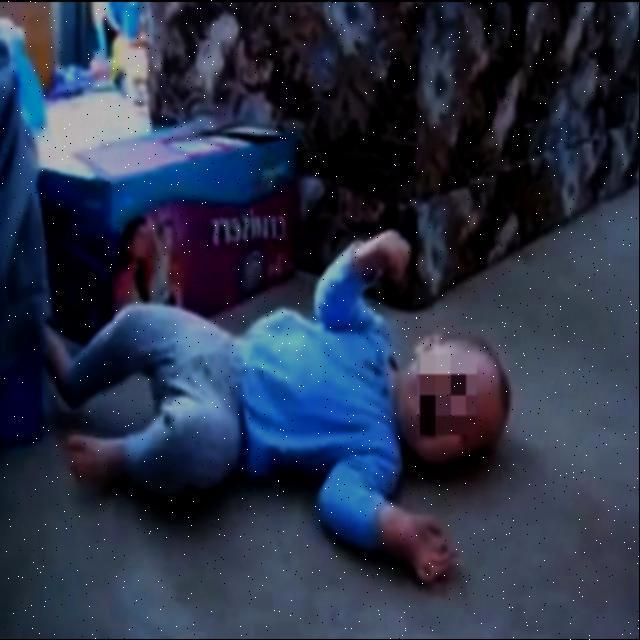child: (37, 233, 509, 586)
